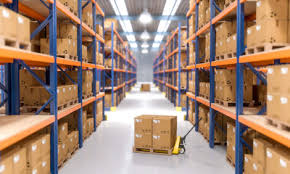Pallet Jack: (133, 115, 207, 157)
